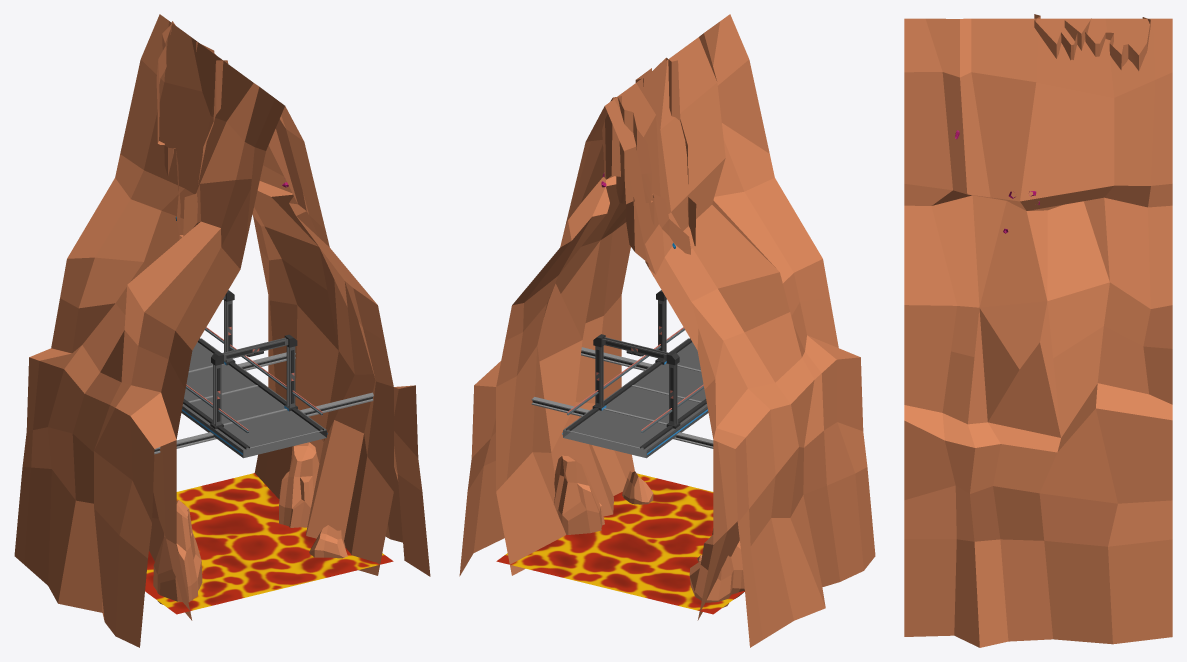
File: Cavern_Straight_Tunnel_2.fbx
The picture shows the model from 3 angles, left to right: view 1: azimuth 30°, elevation 25°; view 2: azimuth 150°, elevation 25°; view 3: azimuth 270°, elevation 25°; orthographic projection. The views are drawn at different scales.
Parts seen in each view (by area): view 1: Cavern_Straight_Tunnel_2, Cavern_Straight_Tunnel_2_W, Cavern_Straight_Tunnel_2_E, Cavern_Straight_Tunnel_2_Walkway; view 2: Cavern_Straight_Tunnel_2, Cavern_Straight_Tunnel_2_W, Cavern_Straight_Tunnel_2_E, Cavern_Straight_Tunnel_2_Walkway; view 3: Cavern_Straight_Tunnel_2_E, Cavern_Straight_Tunnel_2, Cavern_Straight_Tunnel_2_W.
Boxes of the visible parts, x1,y1,x2,y2 form: Cavern_Straight_Tunnel_2: (14, 296, 430, 647); Cavern_Straight_Tunnel_2_W: (51, 14, 284, 439); Cavern_Straight_Tunnel_2_E: (252, 106, 393, 386); Cavern_Straight_Tunnel_2_Walkway: (154, 290, 373, 458); Cavern_Straight_Tunnel_2: (459, 295, 875, 647); Cavern_Straight_Tunnel_2_W: (602, 14, 838, 439); Cavern_Straight_Tunnel_2_E: (496, 106, 630, 386); Cavern_Straight_Tunnel_2_Walkway: (531, 290, 713, 458); Cavern_Straight_Tunnel_2_E: (904, 18, 1172, 437); Cavern_Straight_Tunnel_2: (904, 383, 1172, 647); Cavern_Straight_Tunnel_2_W: (1034, 14, 1150, 70).
Bounding box in the file's own units: 1960 × 2898 × 1300.
